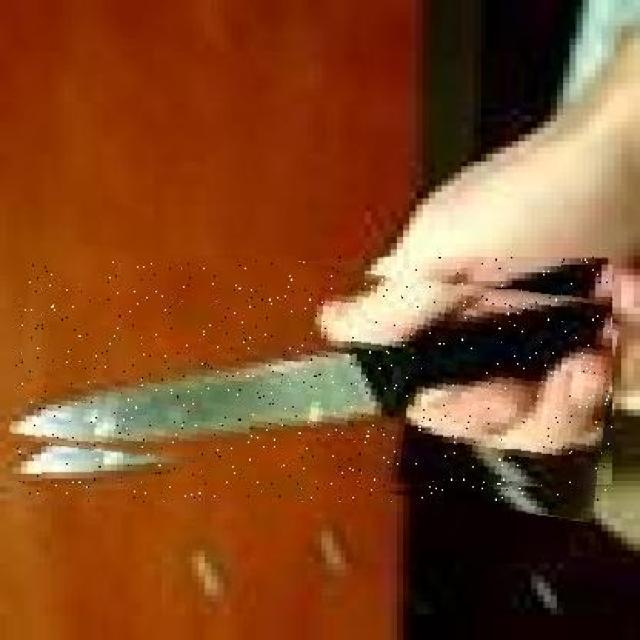knife: (14, 256, 612, 502)
